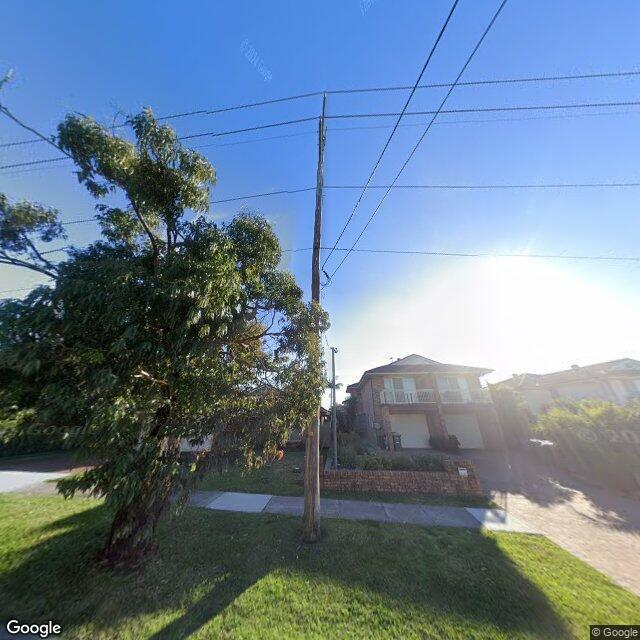HV-transmission: (317, 91, 329, 163)
steel-pole: (331, 348, 338, 470)
timber-pole: (302, 114, 325, 543)
